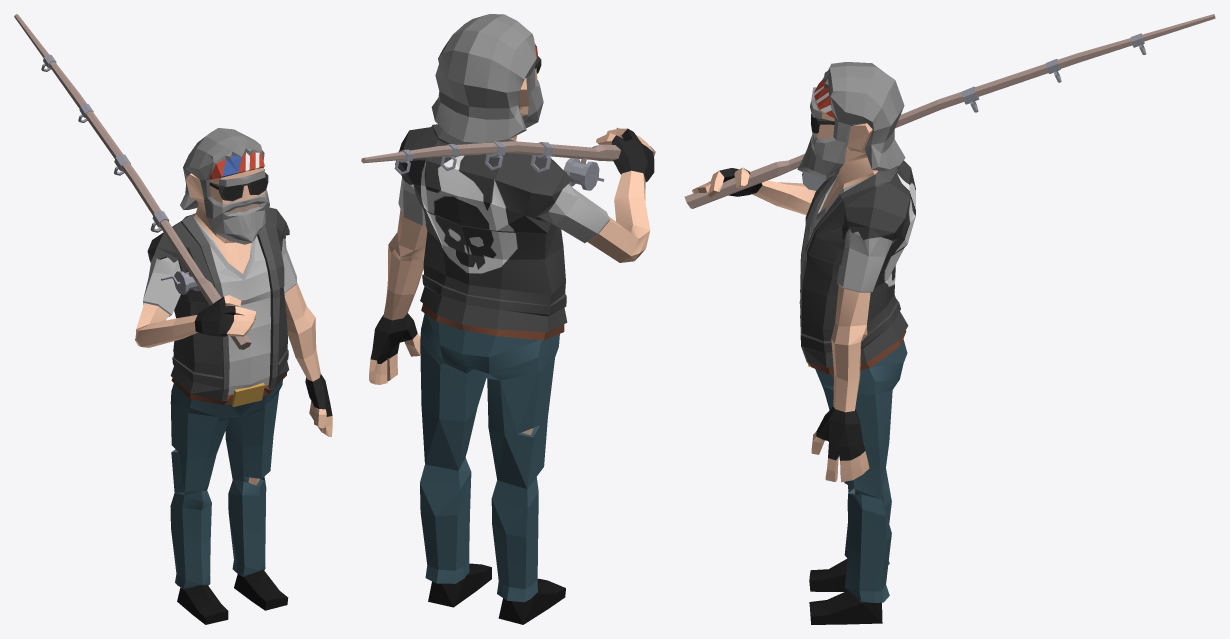
Rendered from fisherman.fbx.
3 renders of one model, left to right at view 1: azimuth 30°, elevation 25°; view 2: azimuth 150°, elevation 25°; view 3: azimuth 270°, elevation 25°, orthographic. The views are drawn at different scales.
Parts seen in each view (by area): view 1: Character_Biker_02; view 2: Character_Biker_02; view 3: Character_Biker_02.
Boxes of the visible parts, box(x1,y1,x2,y2) form: Character_Biker_02: box(14, 14, 332, 624); Character_Biker_02: box(361, 14, 655, 624); Character_Biker_02: box(684, 14, 1215, 624).
Bounding box in the file's own units: 9.34 × 21.25 × 18.35.
Materials: 3 (1 with a texture image).
